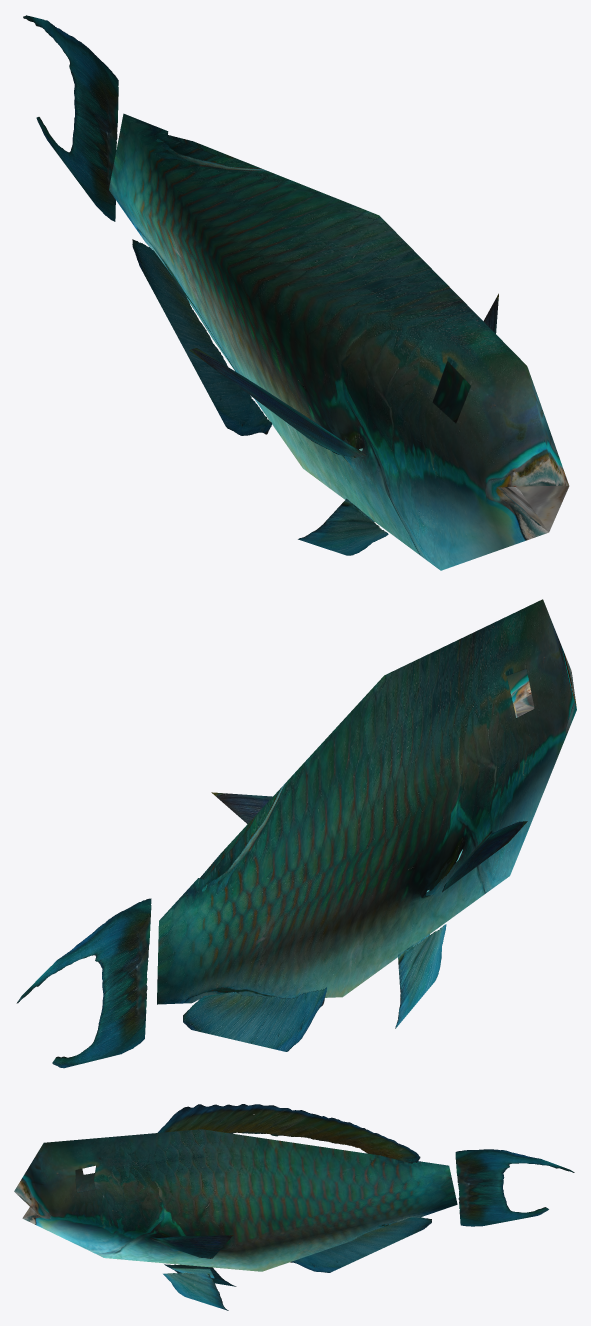
File: SteepheadParrotfish2.fbx
The picture shows the model from 3 angles, top to bottom: view 1: azimuth 30°, elevation 25°; view 2: azimuth 150°, elevation 25°; view 3: azimuth 270°, elevation 25°; orthographic projection. The views are drawn at different scales.
Parts seen in each view (by area): view 1: Steephead_Parrotfish; view 2: Steephead_Parrotfish; view 3: Steephead_Parrotfish.
Boxes of the visible parts, bbox=[...] form: Steephead_Parrotfish: bbox=[23, 15, 569, 570]; Steephead_Parrotfish: bbox=[16, 599, 576, 1068]; Steephead_Parrotfish: bbox=[14, 1104, 574, 1310].
Bounding box in the file's own units: 1.16 × 1.38 × 3.54.
Materials: 1 (1 with a texture image).
